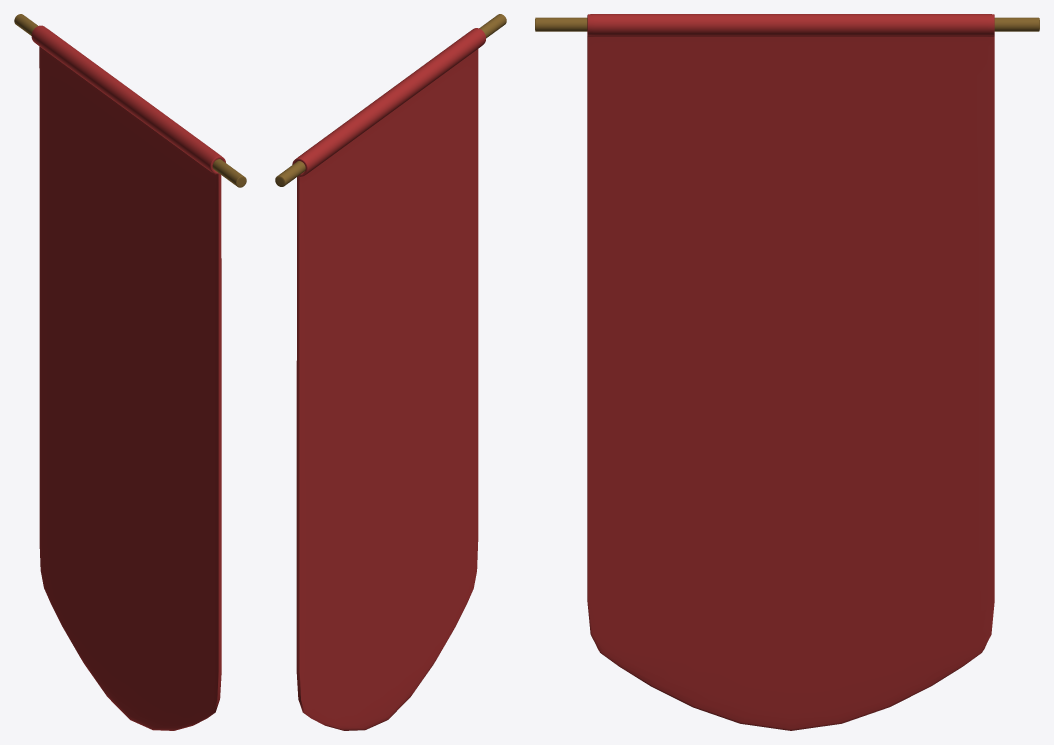
File: medieval_banner_v1.fbx
3 renders of one model, left to right at view 1: azimuth 30°, elevation 25°; view 2: azimuth 150°, elevation 25°; view 3: azimuth 270°, elevation 25°, orthographic. The views are drawn at different scales.
Visible parts, largest first — view 1: banner2, polySurface3; view 2: banner2, polySurface3; view 3: banner2, polySurface3.
Part boxes in pixels (bbox=[...]): banner2: bbox=[31, 25, 225, 730]; polySurface3: bbox=[14, 14, 246, 187]; banner2: bbox=[292, 28, 485, 730]; polySurface3: bbox=[275, 14, 506, 186]; banner2: bbox=[587, 14, 994, 730]; polySurface3: bbox=[535, 17, 1039, 31].
Size of the model in its own units: 0.2992 by 11.24 by 7.2.
